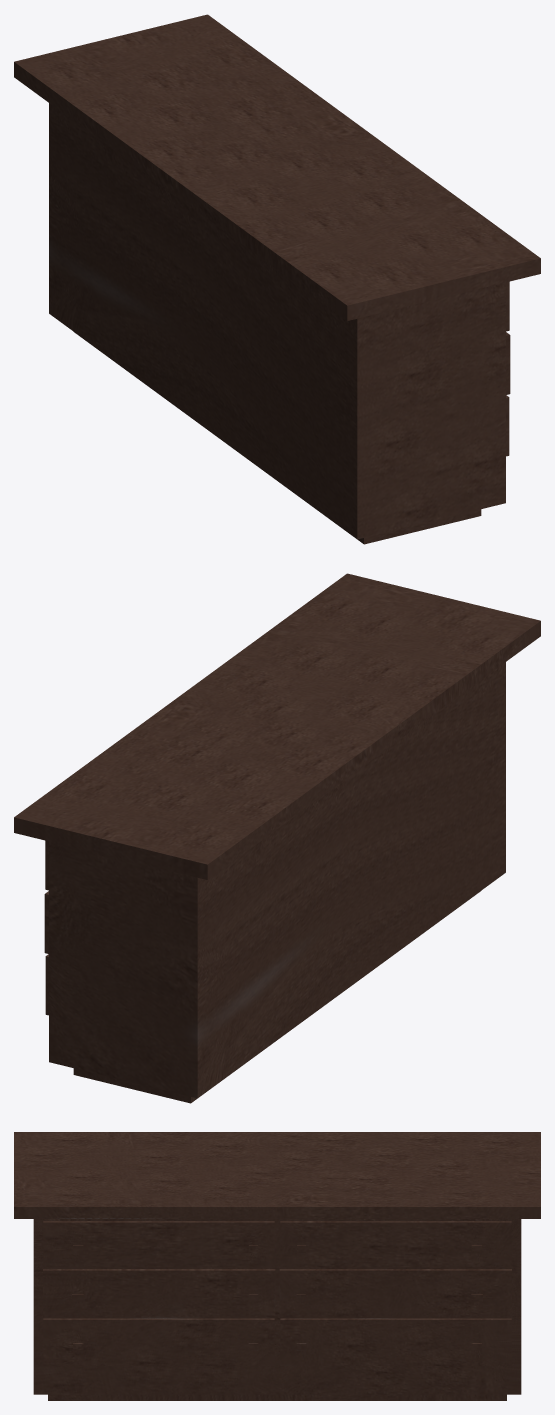
The model's file is AnotherDrawerComplete.fbx.
3 renders of one model, top to bottom at view 1: azimuth 30°, elevation 25°; view 2: azimuth 150°, elevation 25°; view 3: azimuth 270°, elevation 25°, orthographic. The views are drawn at different scales.
Visible parts, largest first — view 1: AnotherDrawer; view 2: AnotherDrawer; view 3: AnotherDrawer.
Part boxes in pixels (x1=…): AnotherDrawer: x1=14, y1=14, x2=540, y2=544; AnotherDrawer: x1=14, y1=573, x2=540, y2=1103; AnotherDrawer: x1=14, y1=1132, x2=540, y2=1400.
Bounding box in the file's own units: 65.3 × 85 × 195.
Materials: 1 (1 with a texture image).
